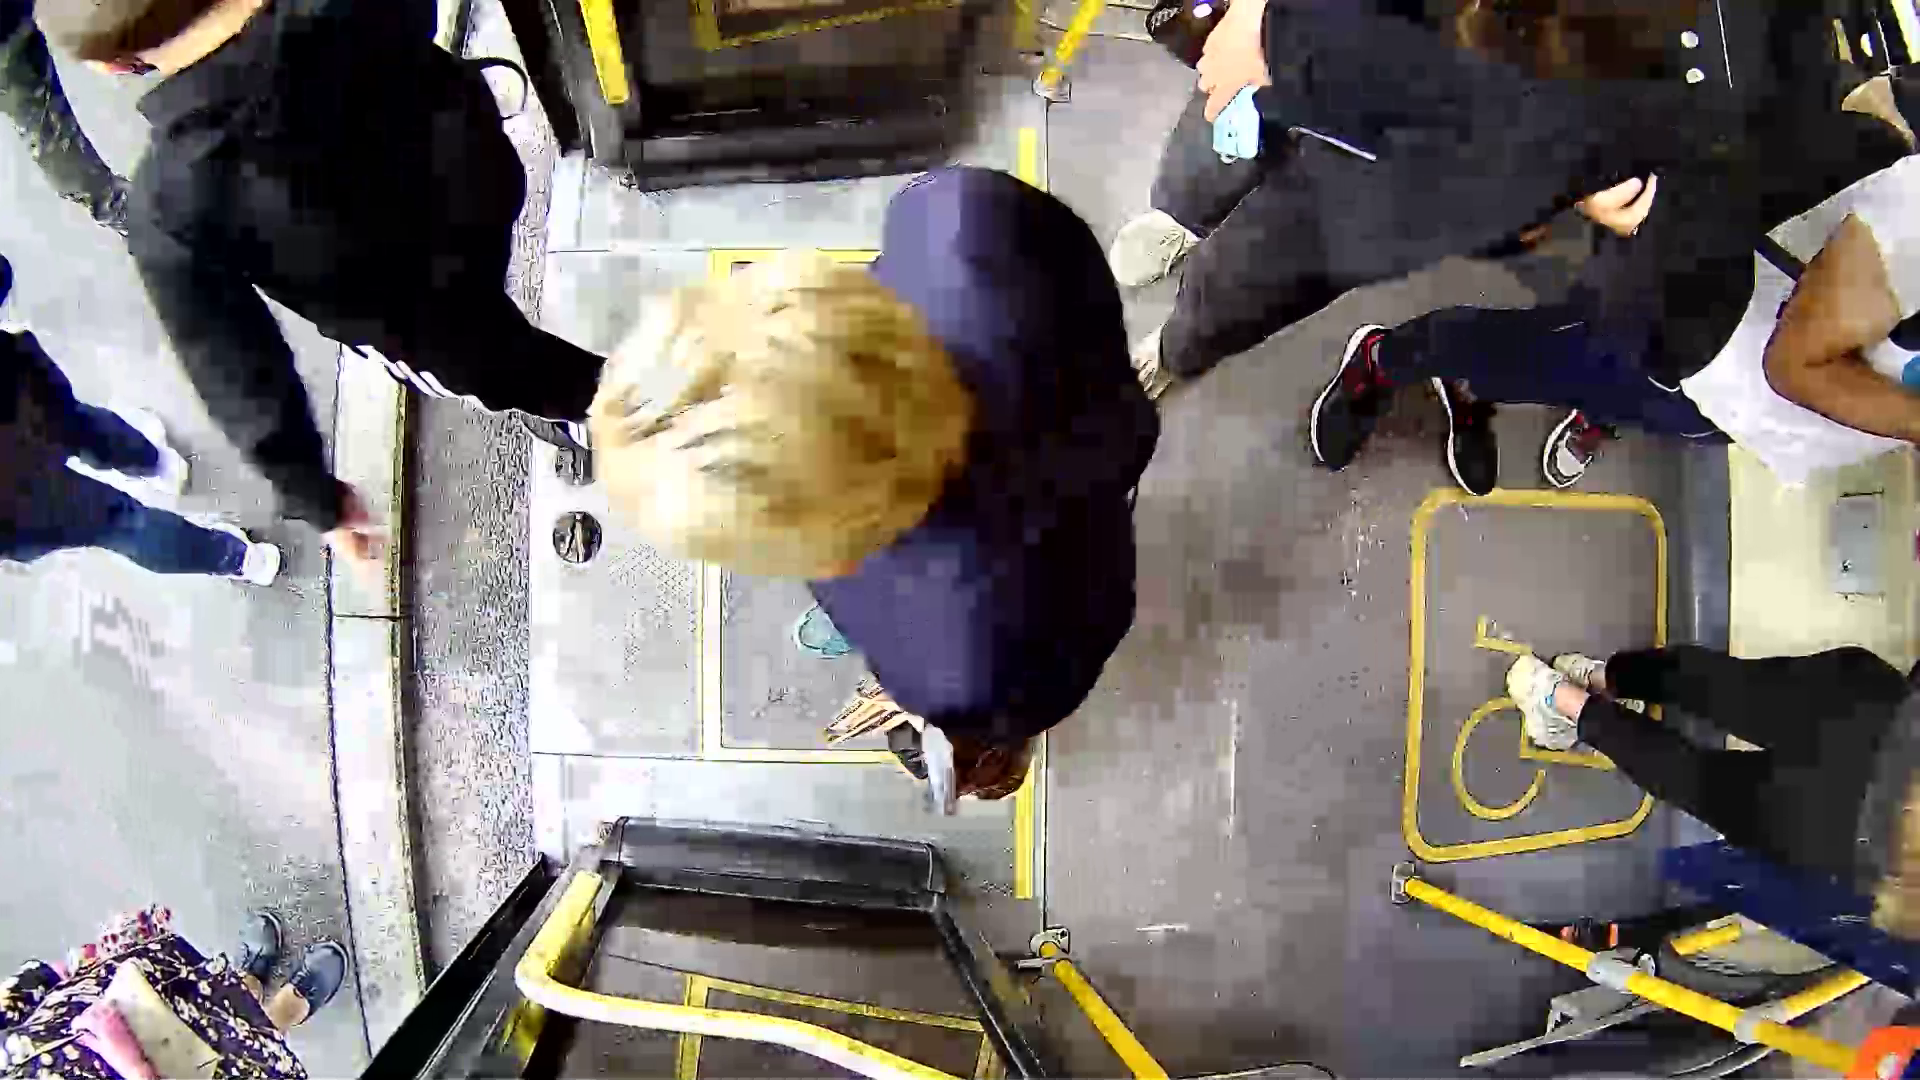person: (565, 196, 1171, 781)
